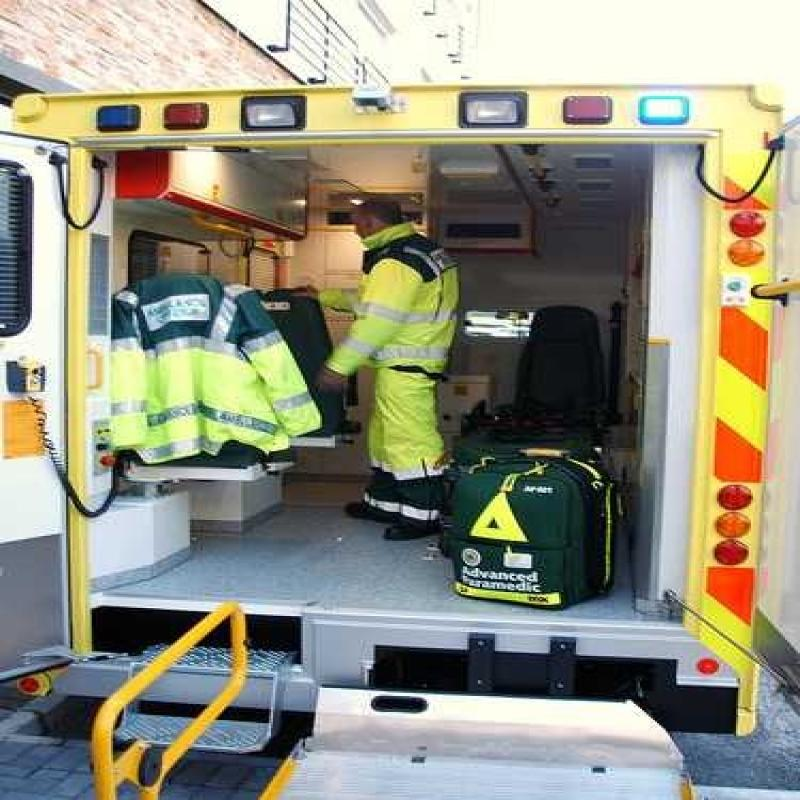AmbulanceSiren: (83, 71, 711, 162)
